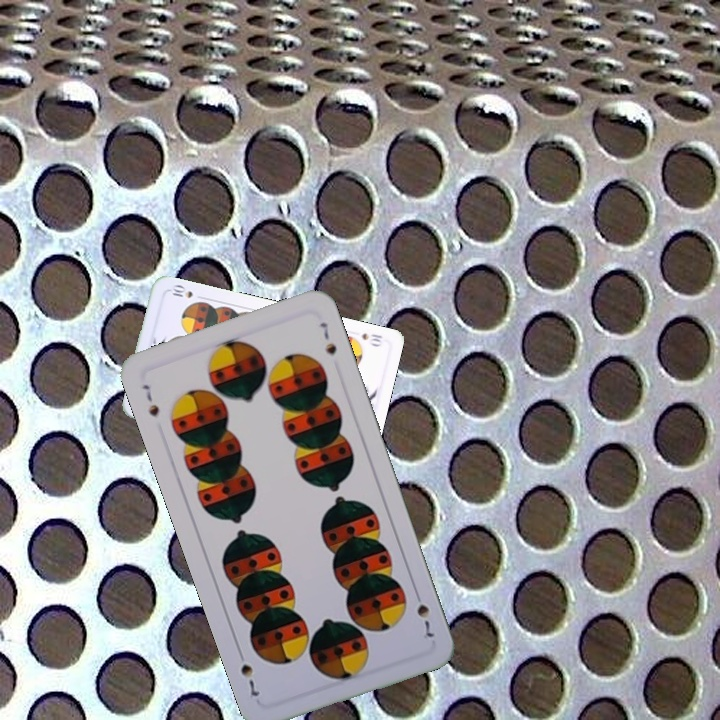S10: (357, 329, 385, 349)
S7: (410, 586, 437, 643), (138, 380, 162, 419)
